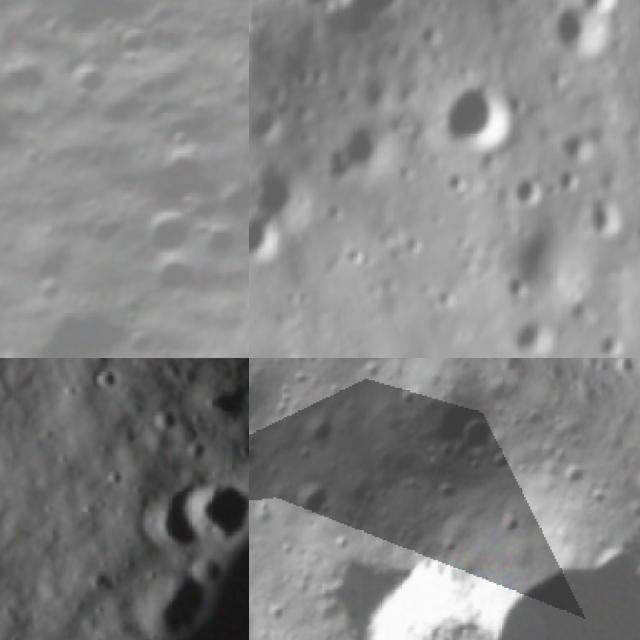crater: (438, 521, 640, 640), (313, 543, 520, 640), (440, 74, 517, 164), (131, 572, 215, 640), (136, 487, 209, 565), (181, 471, 249, 552), (139, 197, 210, 266), (329, 114, 398, 180), (280, 469, 346, 533), (249, 160, 315, 218), (547, 1, 608, 60), (446, 404, 502, 460), (249, 359, 283, 448), (510, 315, 558, 358), (589, 192, 628, 244), (550, 454, 592, 496), (173, 427, 211, 471), (145, 403, 183, 445), (249, 211, 274, 268), (85, 362, 122, 396), (564, 128, 596, 164), (517, 165, 541, 211), (625, 461, 640, 508), (577, 0, 628, 13), (229, 429, 249, 462)
